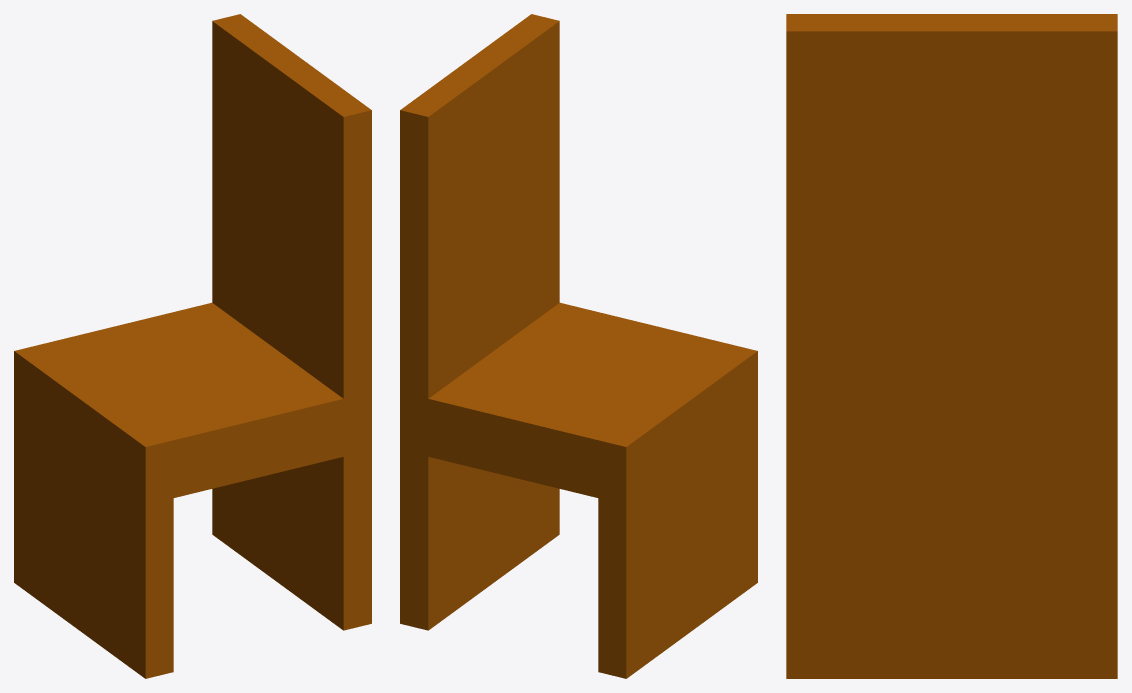
The model's file is giant2chair1.fbx.
3 views of the same model, side by side, from view 1: azimuth 30°, elevation 25°; view 2: azimuth 150°, elevation 25°; view 3: azimuth 270°, elevation 25° (orthographic). The views are drawn at different scales.
Visible parts, largest first — view 1: giant2chair1; view 2: giant2chair1; view 3: giant2chair1.
Boxes of the visible parts, x1,y1,x2,y2 form: giant2chair1: (14, 14, 371, 678); giant2chair1: (400, 14, 757, 678); giant2chair1: (786, 14, 1117, 678).
Size of the model in its own units: 1.35 by 2.92 by 1.36.
